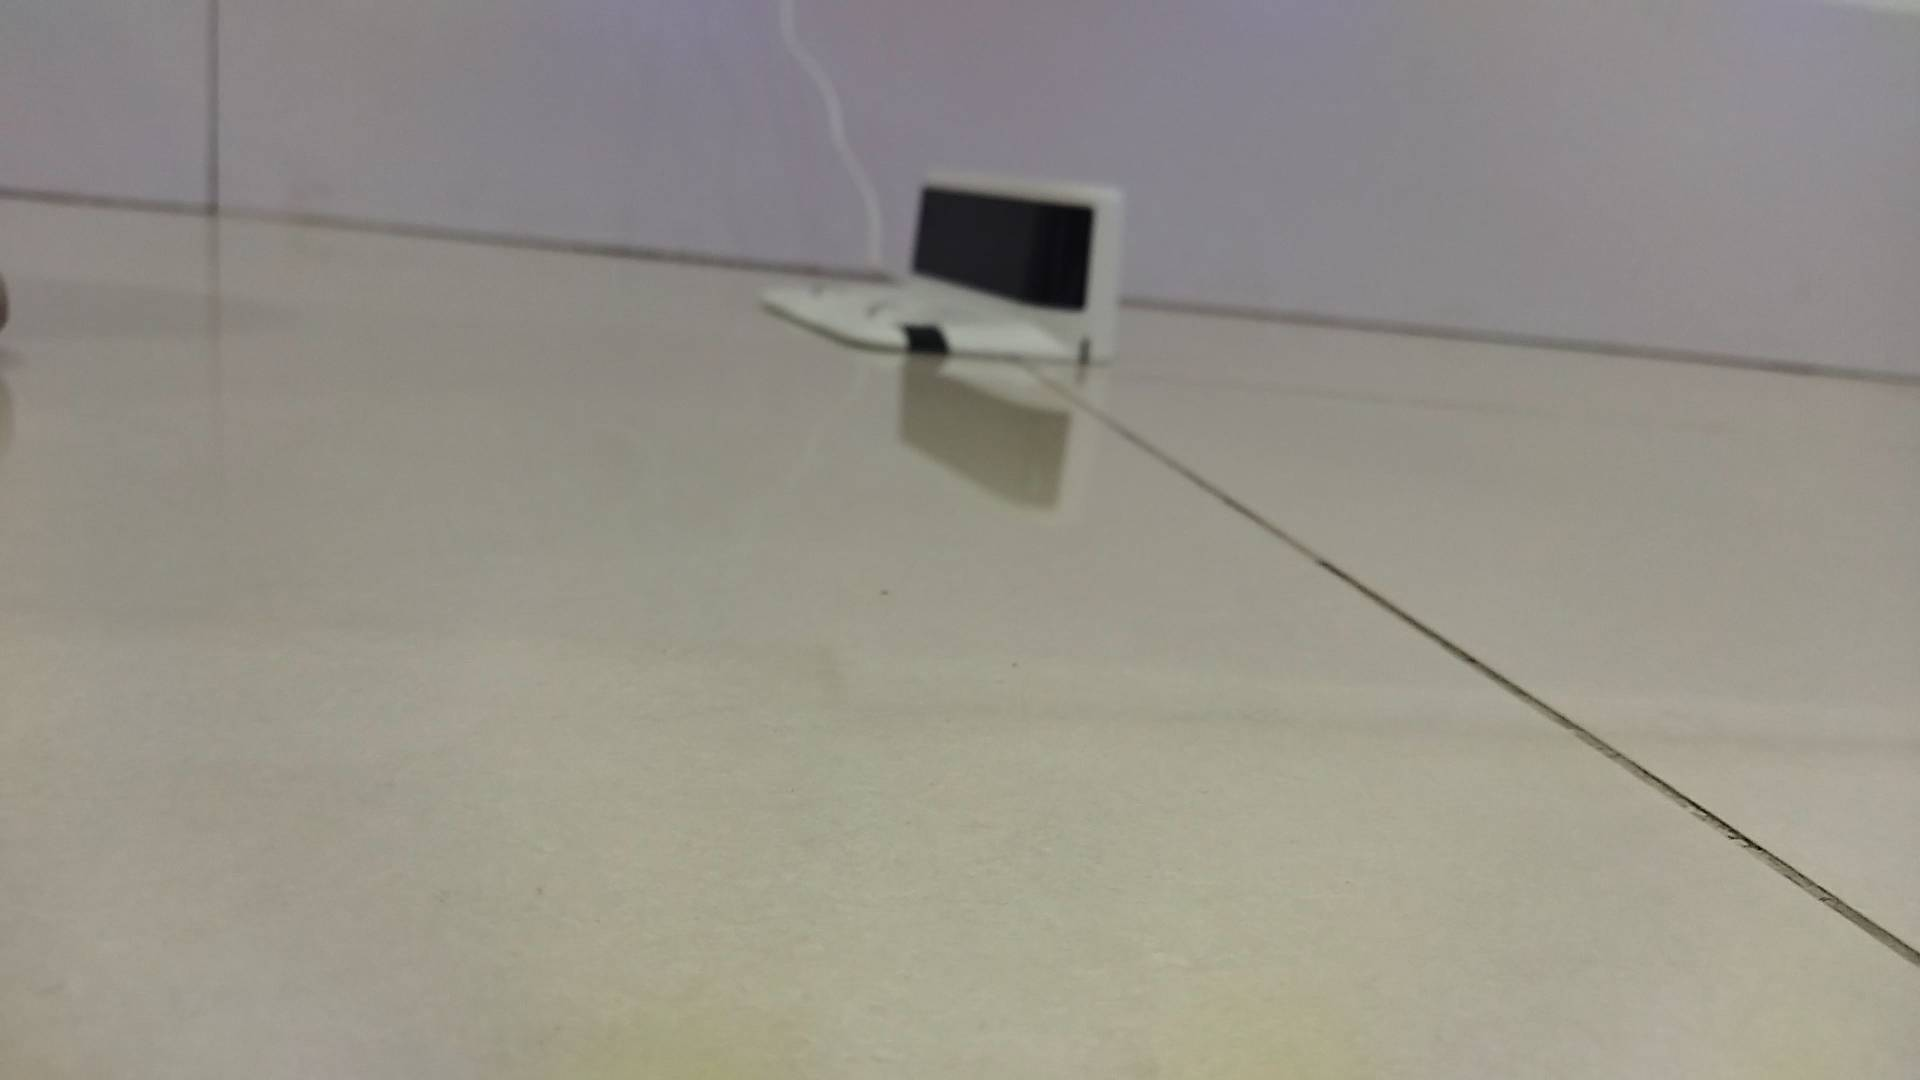recharge seat: (761, 169, 1125, 363)
